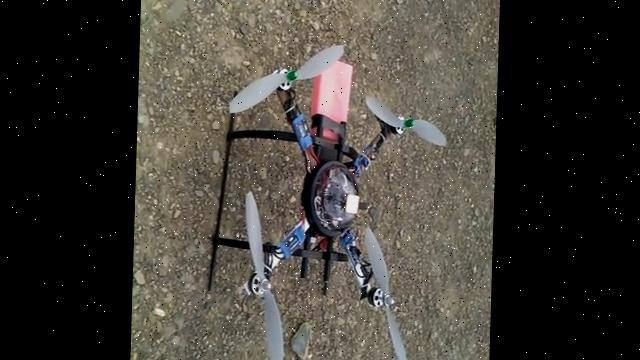drone: (205, 42, 452, 360)
